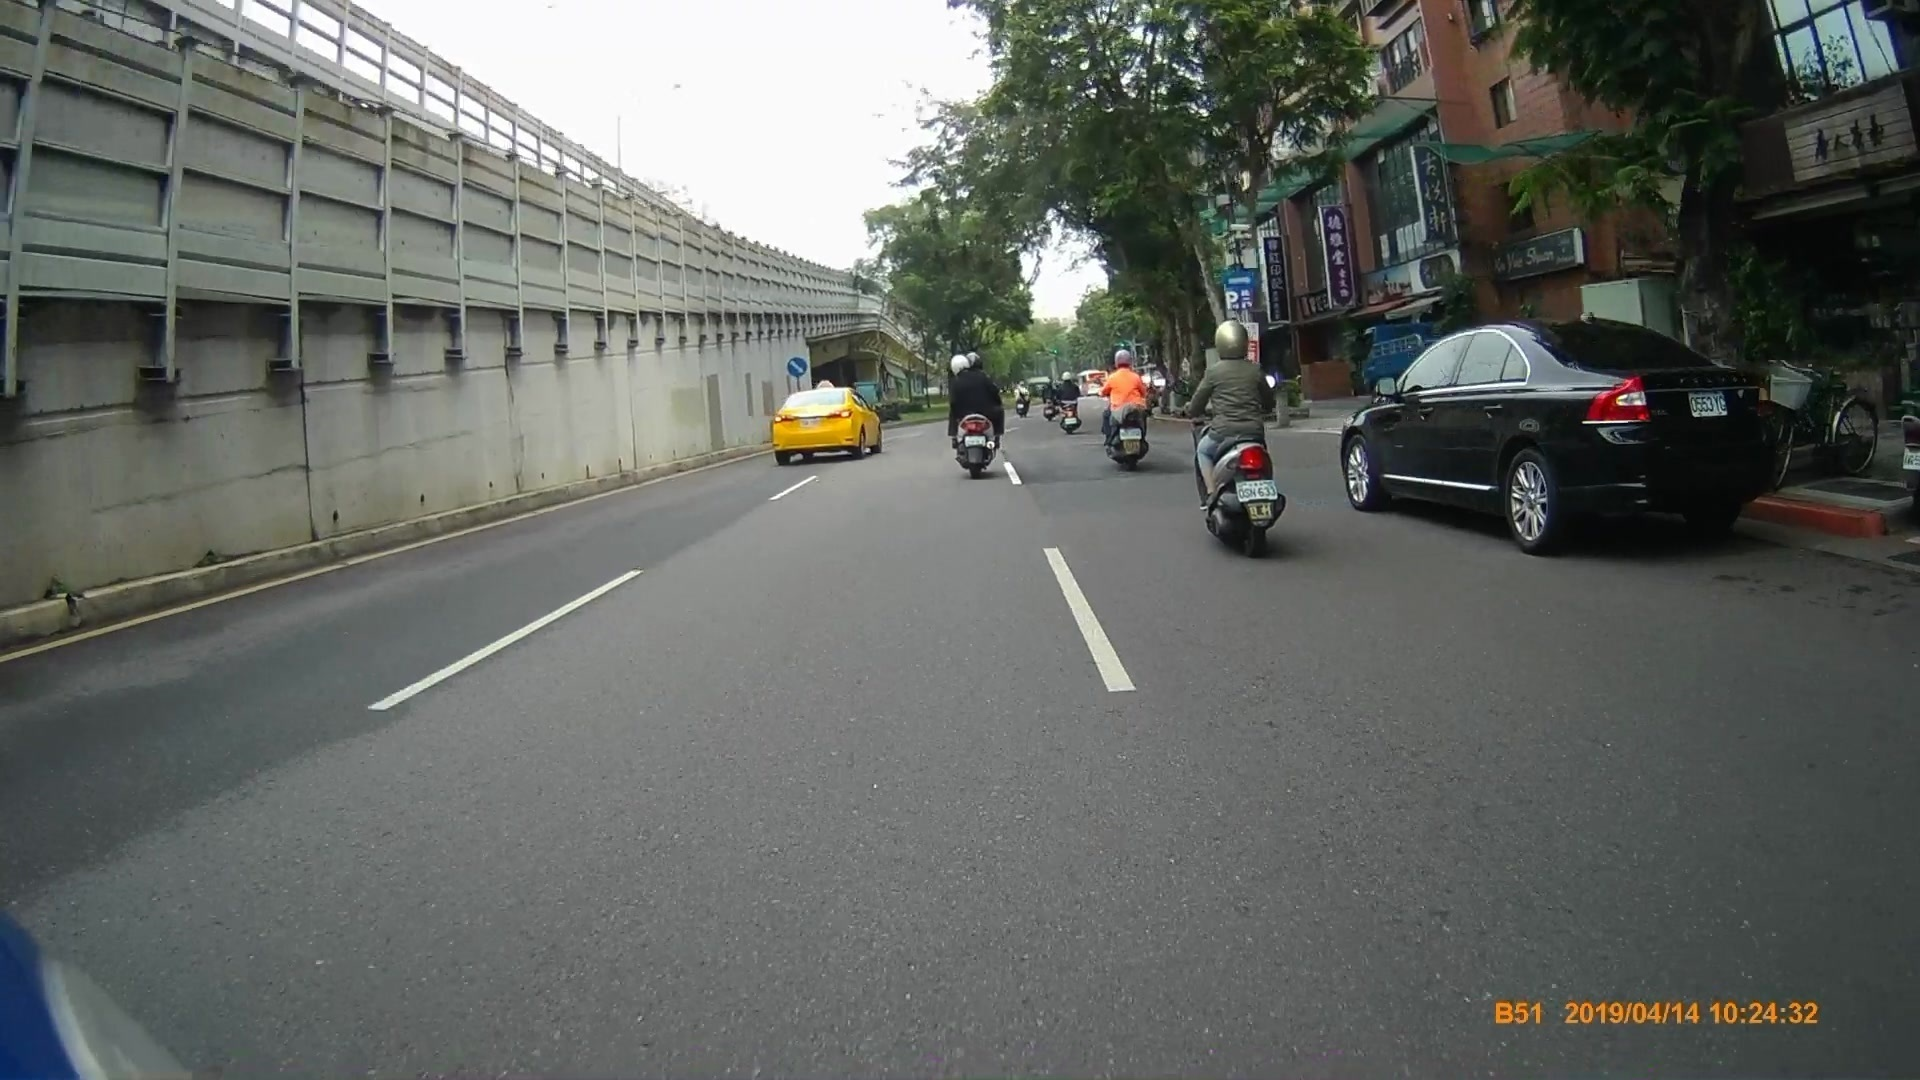License_plate: (1686, 393, 1733, 422), (1236, 479, 1278, 502)
